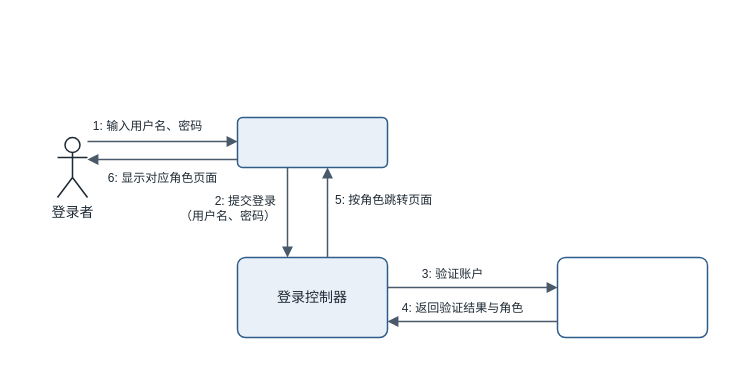
The diagram is 748 pixels wide and 378 high, and some of its shapes have lost their labels. The centre of each missing label's shape, as x and y in pixels:
"用户" belongs at [632,297].
"登录页面" belongs at [312,142].
